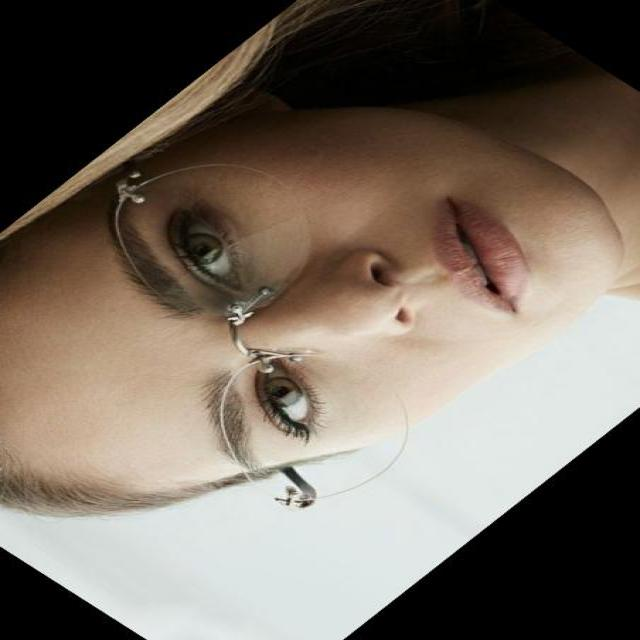glasses: (106, 160, 420, 516)
